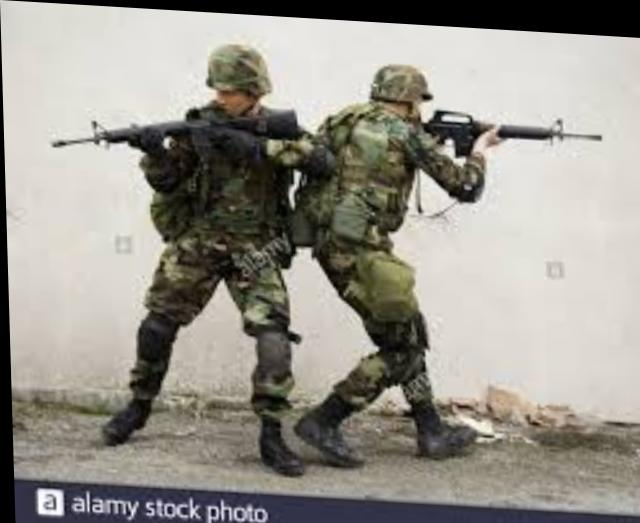other: (126, 56, 295, 458), (305, 55, 454, 459)
